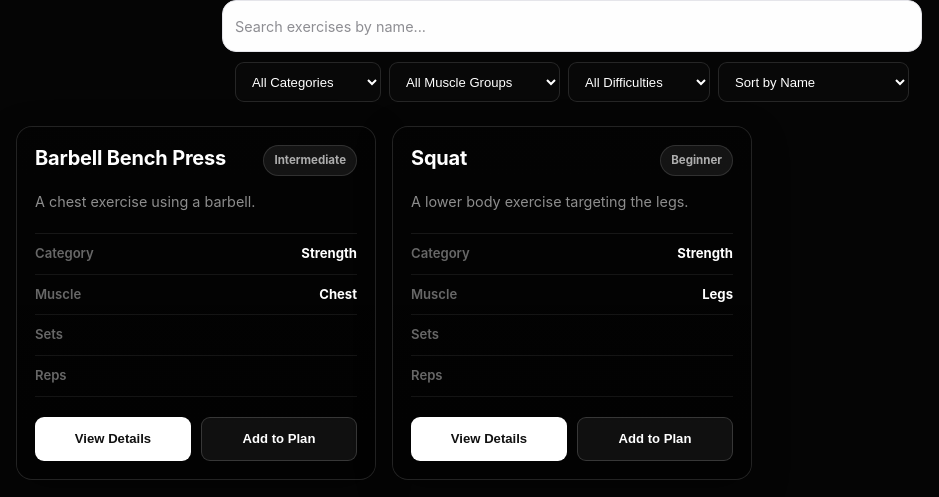
Test: ExerciseList › filters exercises by category
The width and height of the screenshot is (939, 497).
Select "Legs" in the dropdown named "Filter by muscle group" at (474, 82), box [389,62,560,102]
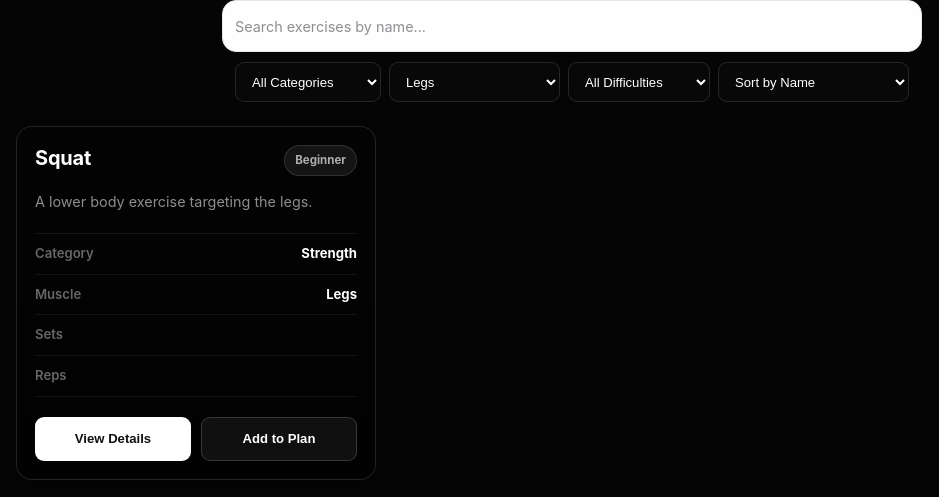
Expected: the heading "Squat" is shown, [35,145,91,171]
Now the heading "Barbell Bench Press" is gone
